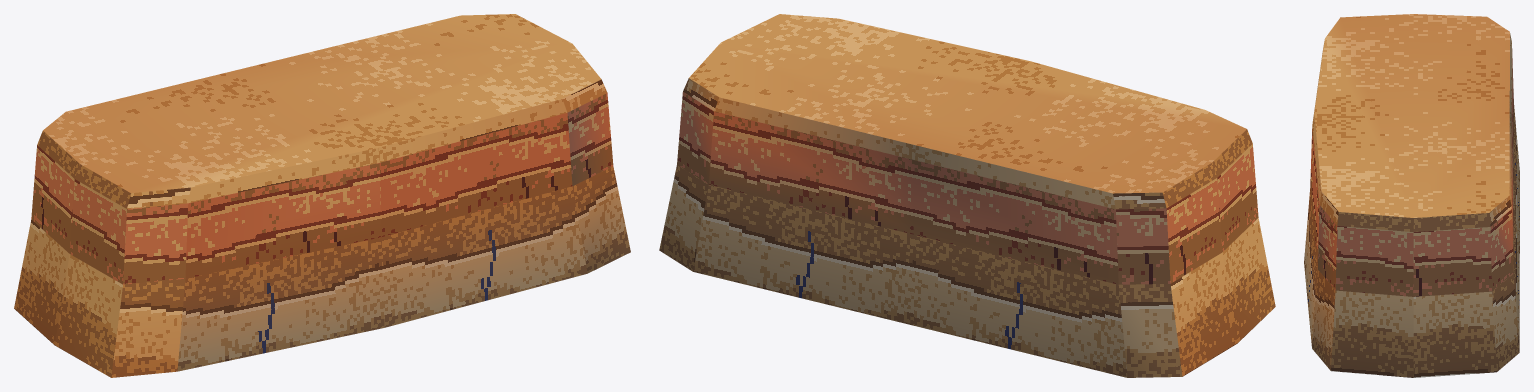
File: wland.ledge__high.glb
3 renders of one model, left to right at view 1: azimuth 30°, elevation 25°; view 2: azimuth 150°, elevation 25°; view 3: azimuth 270°, elevation 25°, orthographic. The views are drawn at different scales.
Parts seen in each view (by area): view 1: kit_ledge; view 2: kit_ledge; view 3: kit_ledge.
Part boxes in pixels (<box>): kit_ledge: <box>14,14,630,377</box>; kit_ledge: <box>659,14,1275,377</box>; kit_ledge: <box>1304,14,1519,377</box>.
Bounding box in the file's own units: 10.38 × 3.2 × 4.2.
4 materials, 4 textured.
